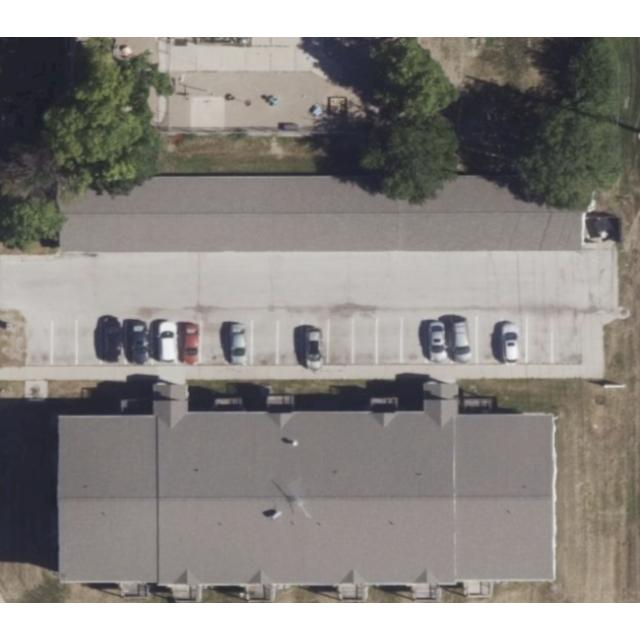Empty: (552, 319, 584, 365), (26, 320, 52, 366), (477, 318, 503, 364), (352, 321, 378, 365), (376, 320, 402, 364), (76, 319, 100, 366), (528, 318, 552, 364), (201, 322, 227, 364), (327, 322, 353, 364), (52, 322, 76, 366), (278, 322, 302, 366), (402, 320, 426, 364), (252, 322, 276, 364)
Parked: (126, 321, 154, 365), (99, 320, 125, 366), (502, 318, 528, 364), (302, 321, 328, 365), (426, 320, 452, 364), (452, 318, 476, 364), (154, 323, 180, 365), (178, 323, 202, 365), (228, 323, 252, 365)
